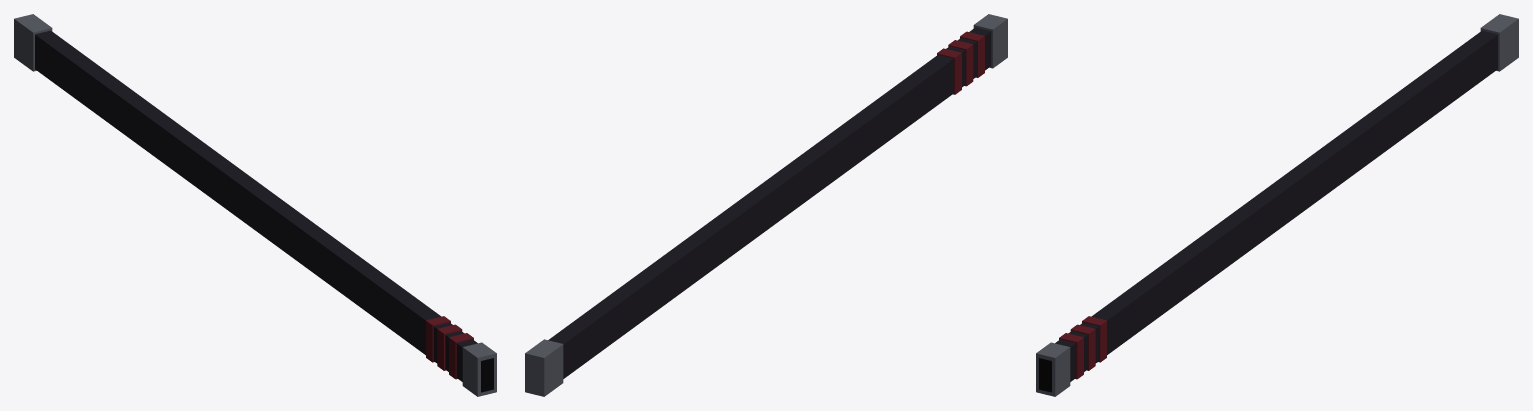
Rendered from evil_tachi_sheath_with_band.obj.
The picture shows the model from 3 angles, left to right: view 1: azimuth 30°, elevation 25°; view 2: azimuth 150°, elevation 25°; view 3: azimuth 330°, elevation 25°; orthographic projection.
Size of the model in its own units: 0.058 by 0.112 by 2.42.
